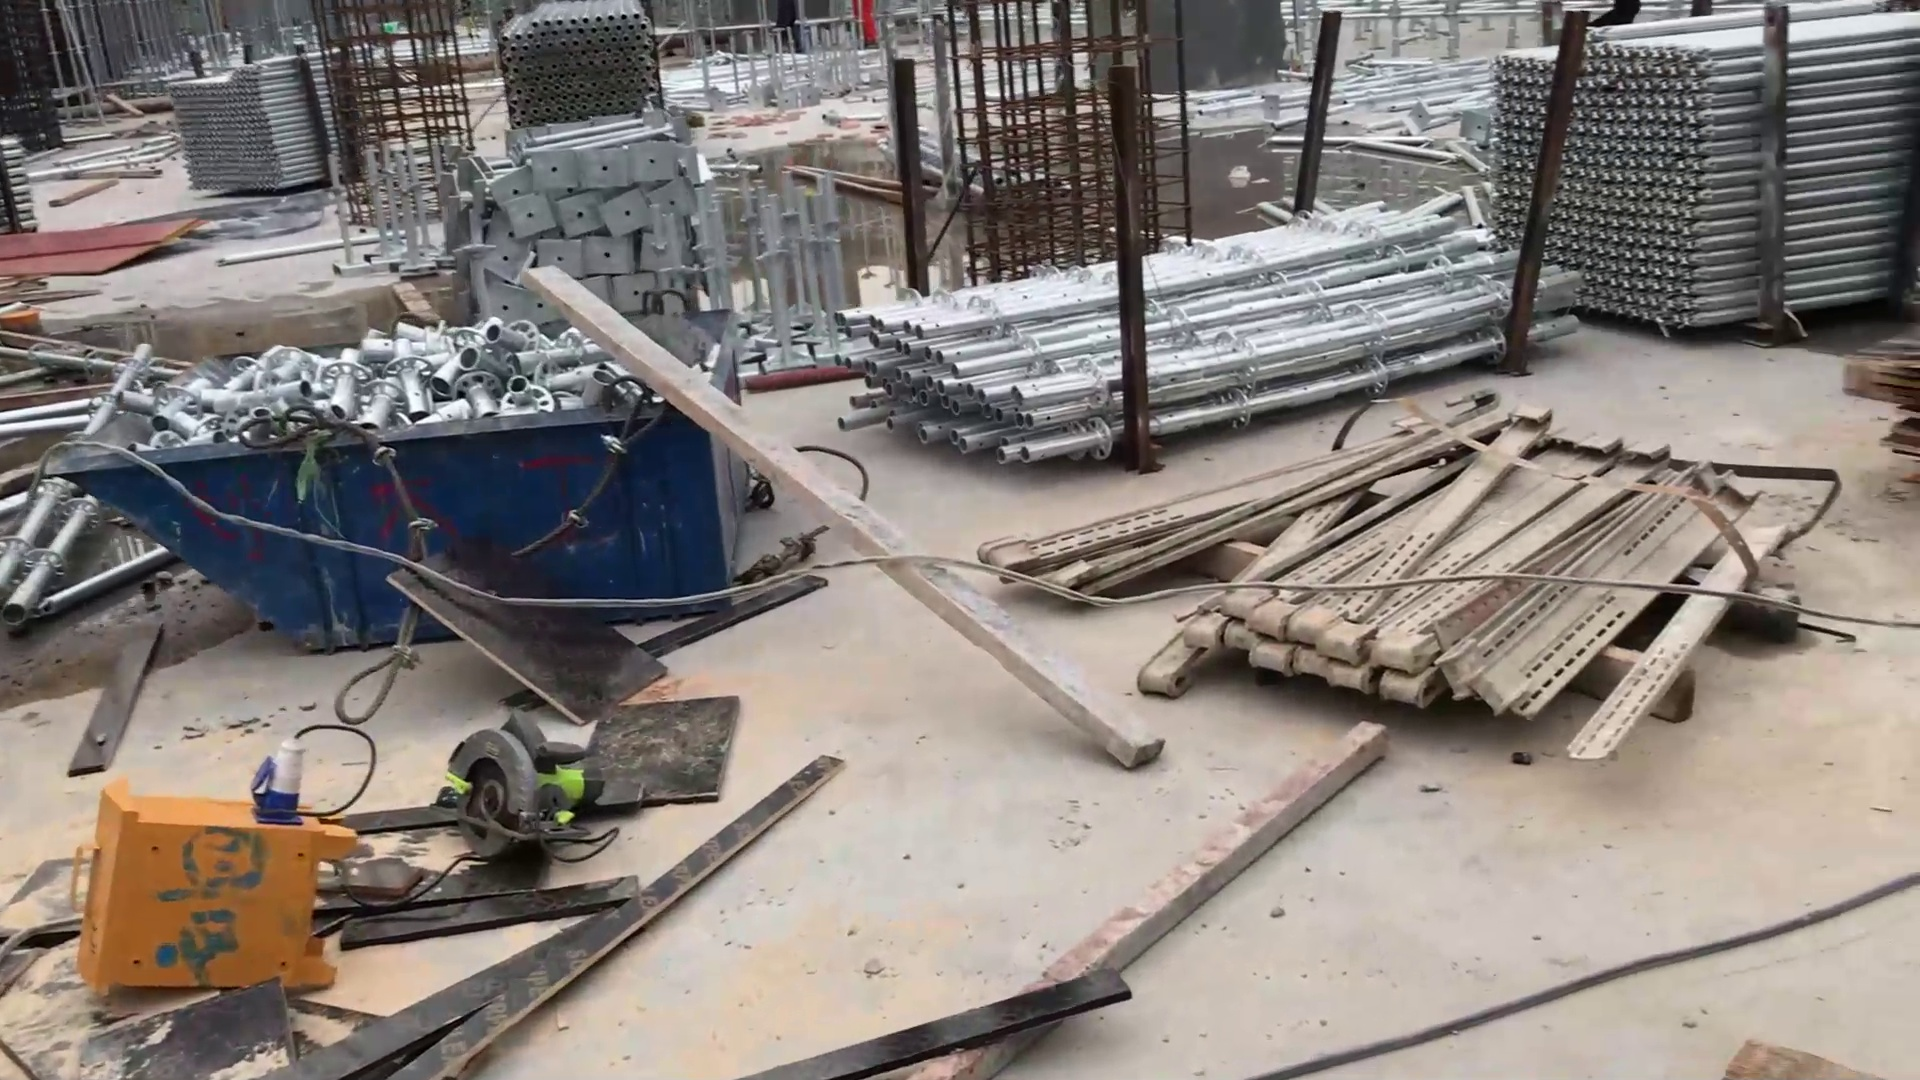cutter: (400, 705, 611, 858)
ebox: (65, 723, 389, 1015)
hopper: (49, 305, 760, 665)
scaffold: (833, 204, 1571, 483), (1485, 1, 1920, 323), (471, 108, 744, 330), (160, 46, 357, 200), (495, 1, 659, 131)
